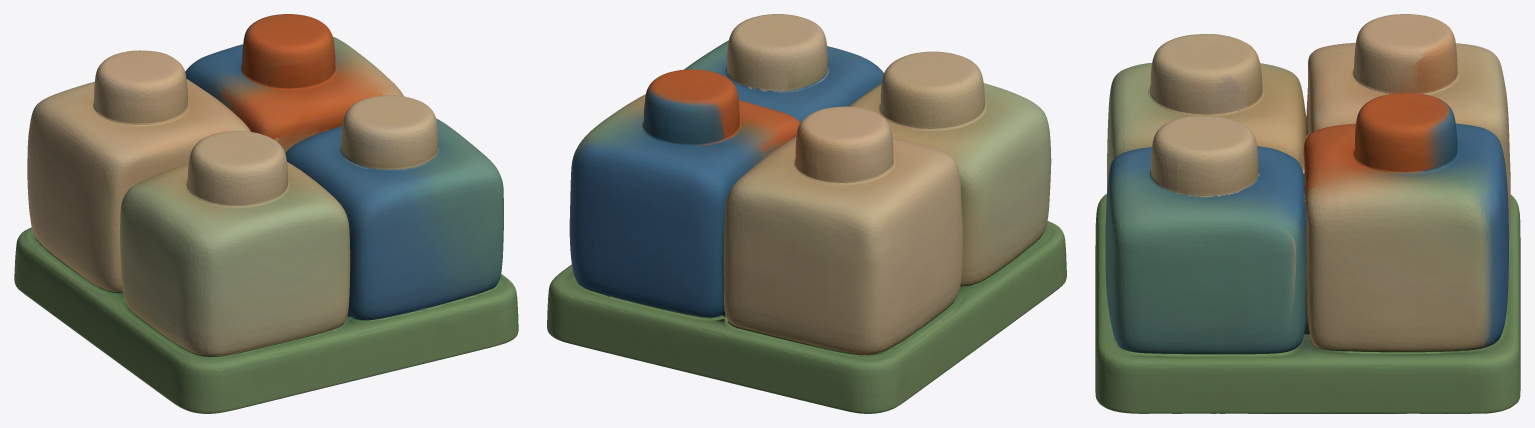
Rendered from quadrell.glb.
3 views of the same model, side by side, from view 1: azimuth 30°, elevation 25°; view 2: azimuth 150°, elevation 25°; view 3: azimuth 270°, elevation 25° (orthographic). The views are drawn at different scales.
Visible parts, largest first — view 1: textured_mesh.obj; view 2: textured_mesh.obj; view 3: textured_mesh.obj.
Boxes of the visible parts, bbox=[...] form: textured_mesh.obj: bbox=[14, 14, 518, 413]; textured_mesh.obj: bbox=[547, 14, 1066, 413]; textured_mesh.obj: bbox=[1095, 14, 1520, 413].
Bounding box in the file's own units: 1.99 × 1.31 × 1.99.
Materials: 1 (1 with a texture image).
